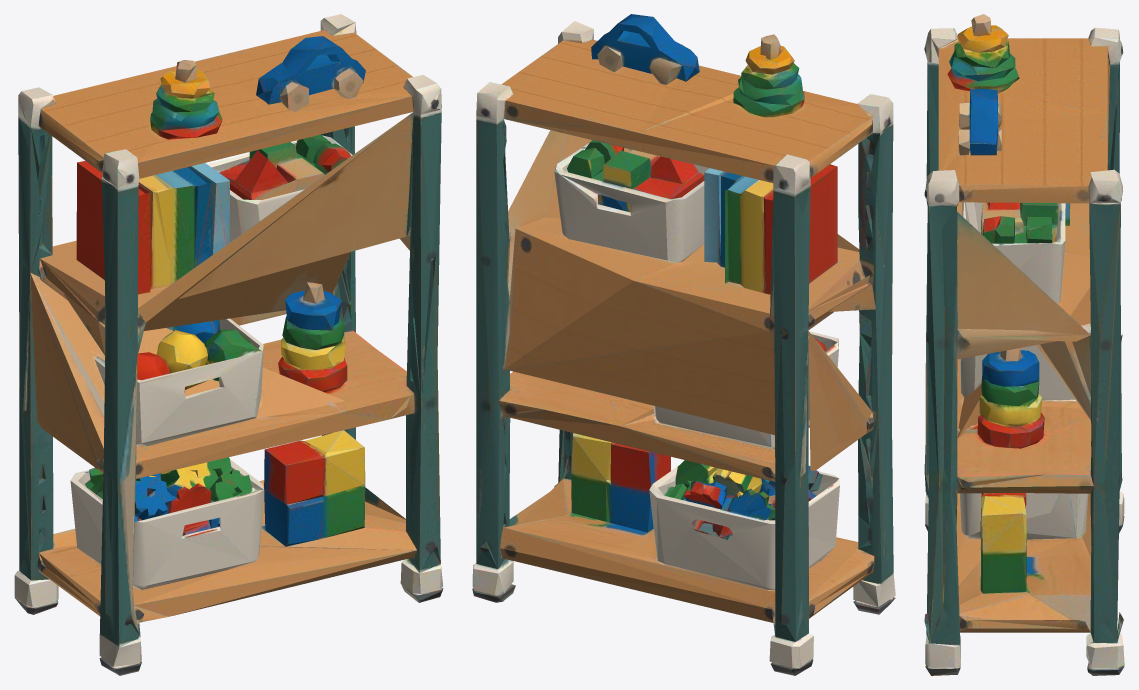
The model's file is rounded-restaurant-storage-shelf-fully-stocked.glb.
3 renders of one model, left to right at view 1: azimuth 30°, elevation 25°; view 2: azimuth 150°, elevation 25°; view 3: azimuth 270°, elevation 25°, orthographic. The views are drawn at different scales.
Visible parts, largest first — view 1: Mesh_0; view 2: Mesh_0; view 3: Mesh_0.
Part boxes in pixels (<box>): Mesh_0: <box>14,14,443,675</box>; Mesh_0: <box>472,14,895,675</box>; Mesh_0: <box>924,14,1124,675</box>.
Bounding box in the file's own units: 0.836 × 1.37 × 0.45.
Materials: 1 (1 with a texture image).
